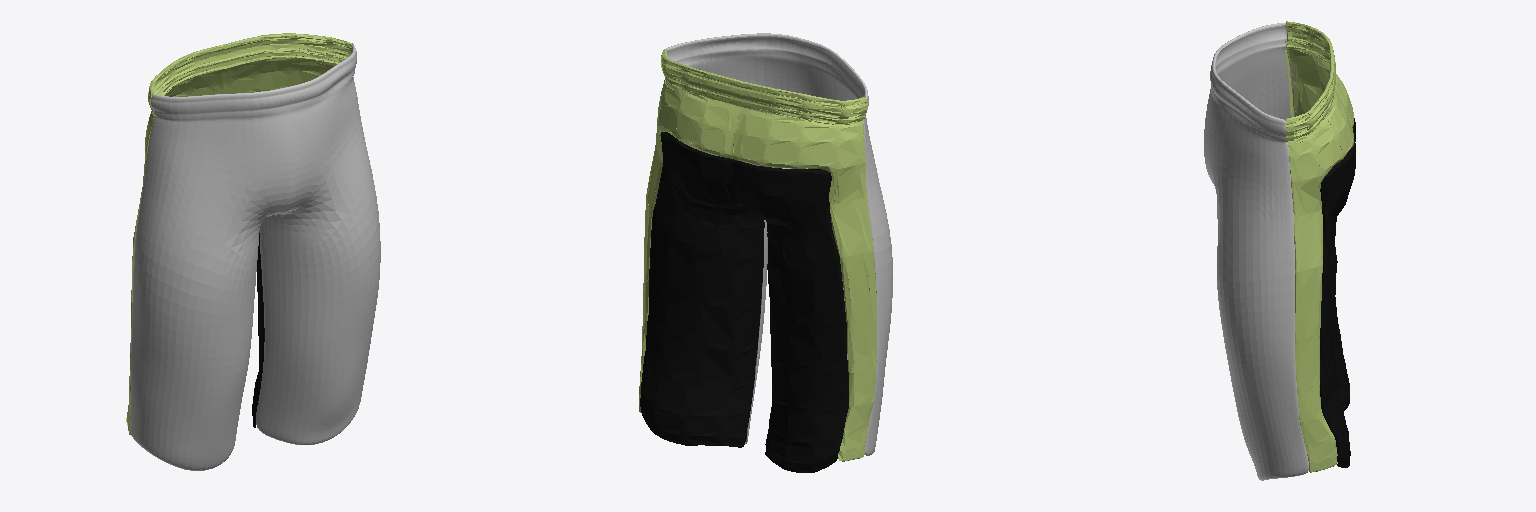
The model's file is halfpant.obj.
3 views of the same model, side by side, from view 1: azimuth 30°, elevation 25°; view 2: azimuth 150°, elevation 25°; view 3: azimuth 270°, elevation 25° (orthographic).
Visible parts, largest first — view 1: halfpant; view 2: halfpant; view 3: halfpant.
Boxes of the visible parts, x1,y1,x2,y2 form: halfpant: [126, 33, 380, 470]; halfpant: [639, 33, 892, 472]; halfpant: [1204, 21, 1355, 480].
Bounding box in the file's own units: 5.14 × 8.12 × 2.89.